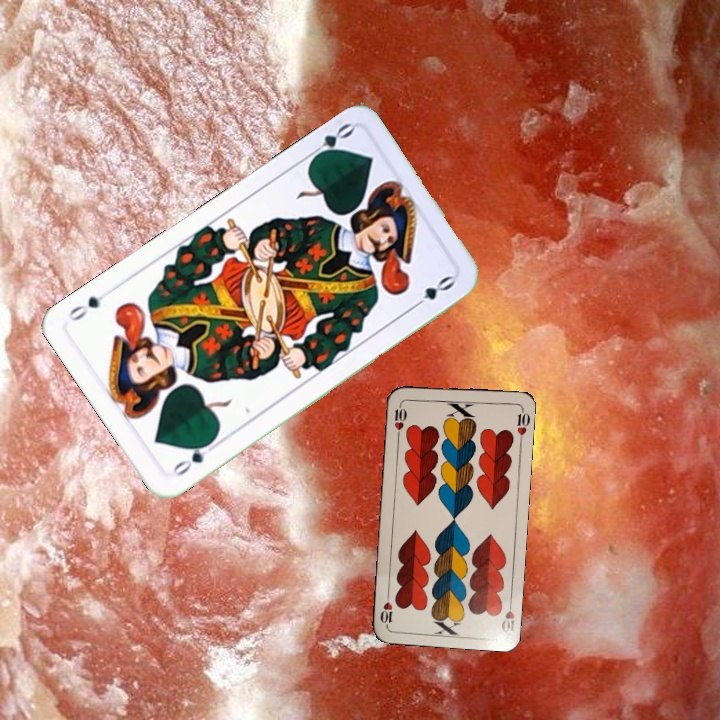GO: (303, 118, 357, 164), (167, 436, 216, 479)
H10: (497, 595, 517, 635), (390, 399, 409, 439)
